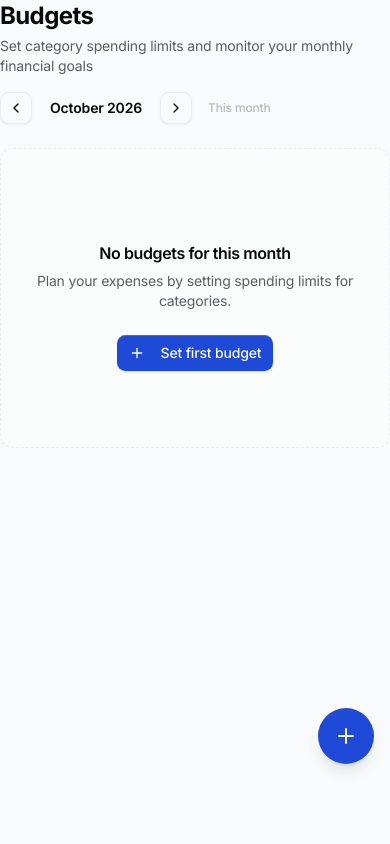
Test: BudgetsPage › opens create dialog via mobile FAB button
Click the button with test id "mobile-add-budget-fab": (346, 736) [318,708,374,764]
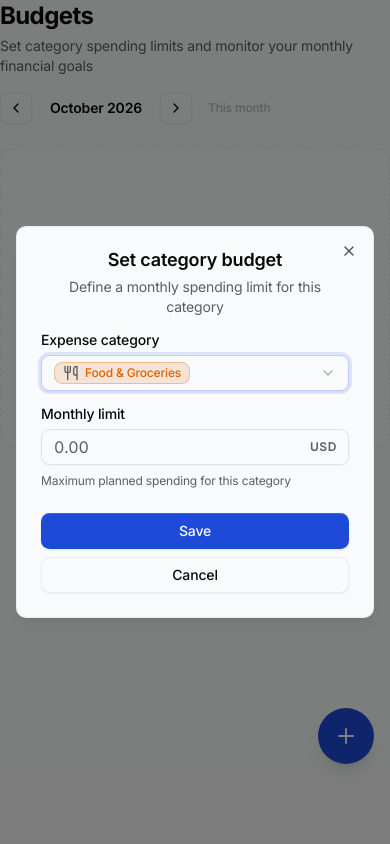
Result: the dialog with test id "budget-form-dialog" is shown at [16,226,374,618]
